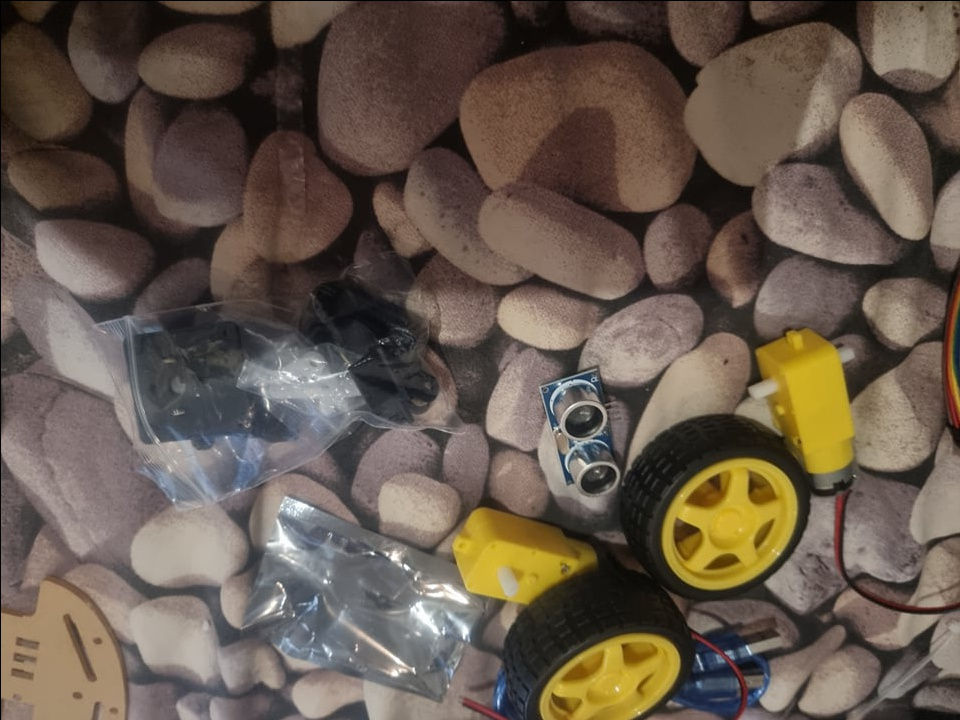SENSOR: (538, 372, 625, 495)
